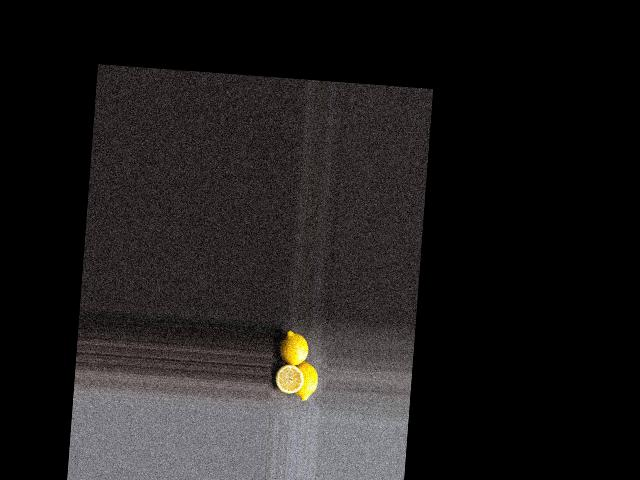lemon: (291, 360, 322, 404)
